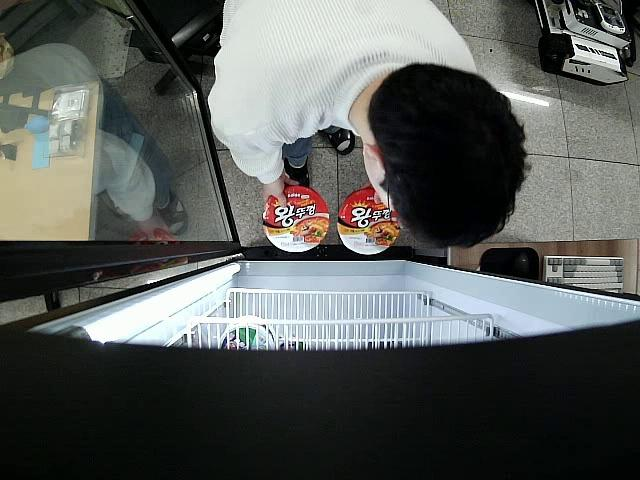00_hand: (261, 177, 299, 209)
10_wangTtukkeong: (262, 185, 329, 252), (338, 189, 399, 255)
